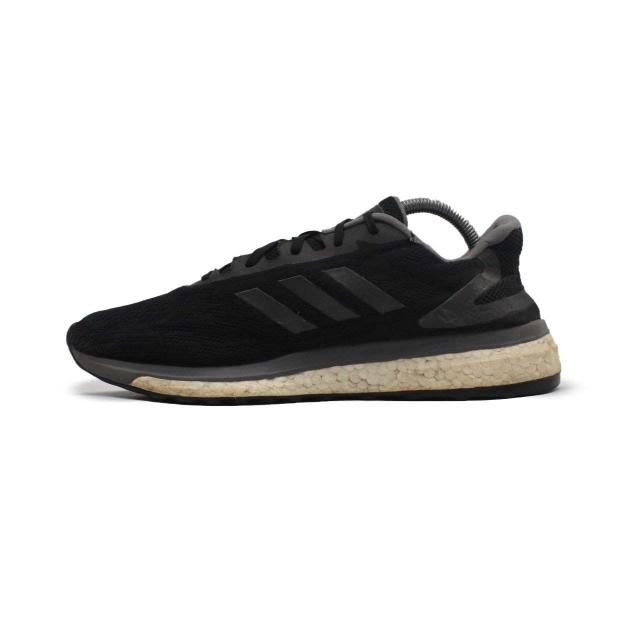heel: (469, 213, 544, 335)
midsole: (60, 317, 563, 401)
uppersole: (68, 195, 495, 363)
